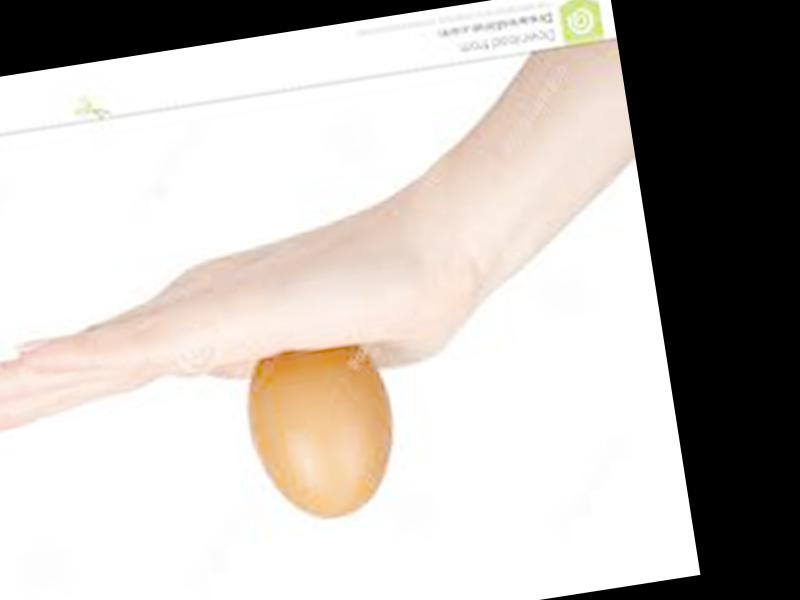Eggs: (237, 333, 403, 528)
